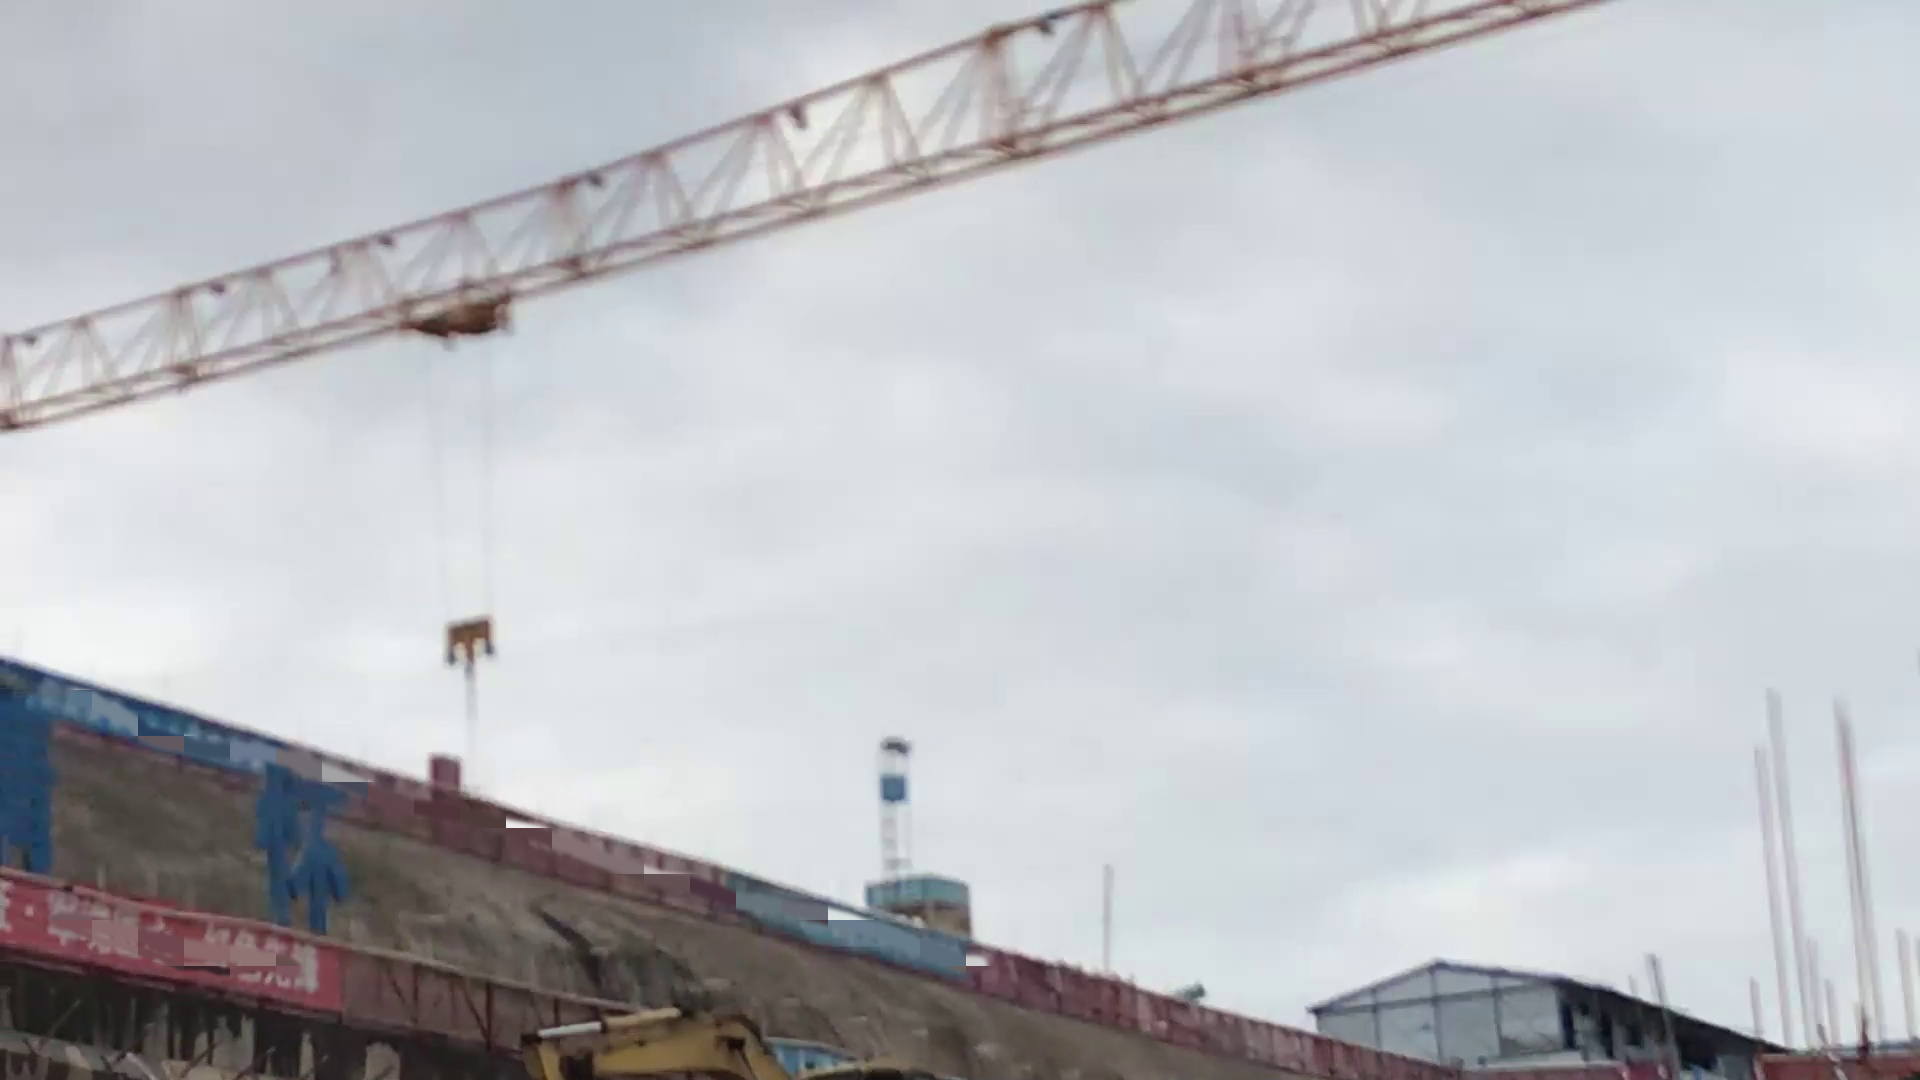hook: (440, 615, 501, 683)
slogan: (11, 876, 367, 1004)
